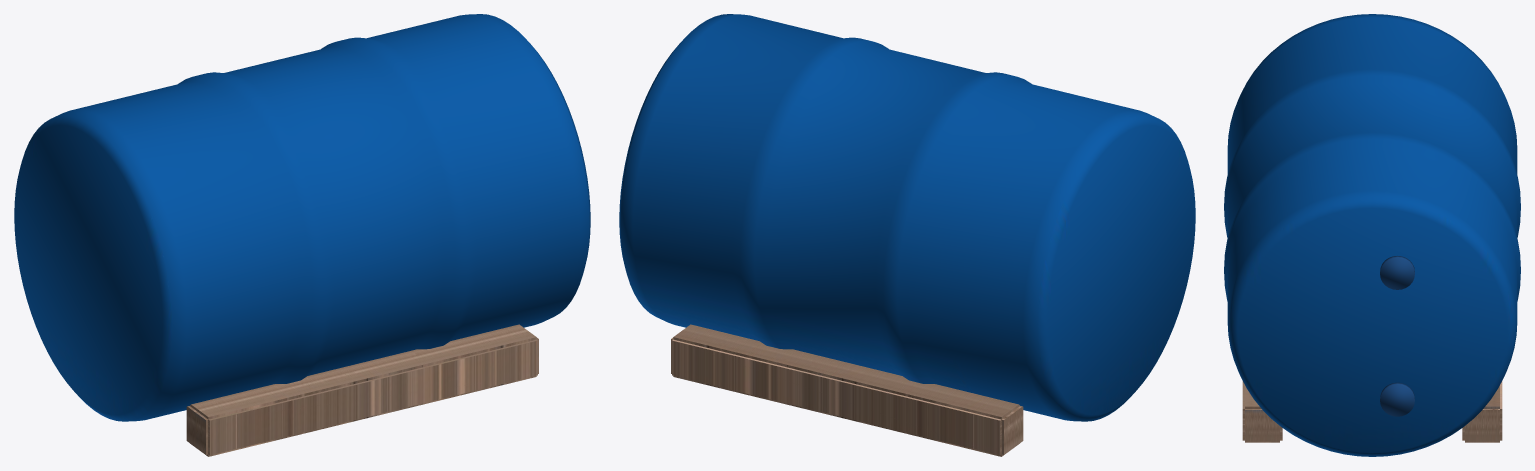
The model's file is obj_barrel_lying.glb.
The picture shows the model from 3 angles, left to right: view 1: azimuth 30°, elevation 25°; view 2: azimuth 150°, elevation 25°; view 3: azimuth 270°, elevation 25°; orthographic projection. The views are drawn at different scales.
Visible parts, largest first — view 1: barrel_lying_body; view 2: barrel_lying_body; view 3: barrel_lying_body, bung, bung.001.
Part boxes in pixels (x1,y1,x2,y2): barrel_lying_body: (14, 14, 590, 456); barrel_lying_body: (619, 14, 1195, 456); barrel_lying_body: (1224, 14, 1520, 456); bung: (1380, 256, 1414, 289); bung.001: (1380, 382, 1414, 416).
Size of the model in its own units: 0.912 by 0.594 by 0.594.
2 materials, 1 textured.
